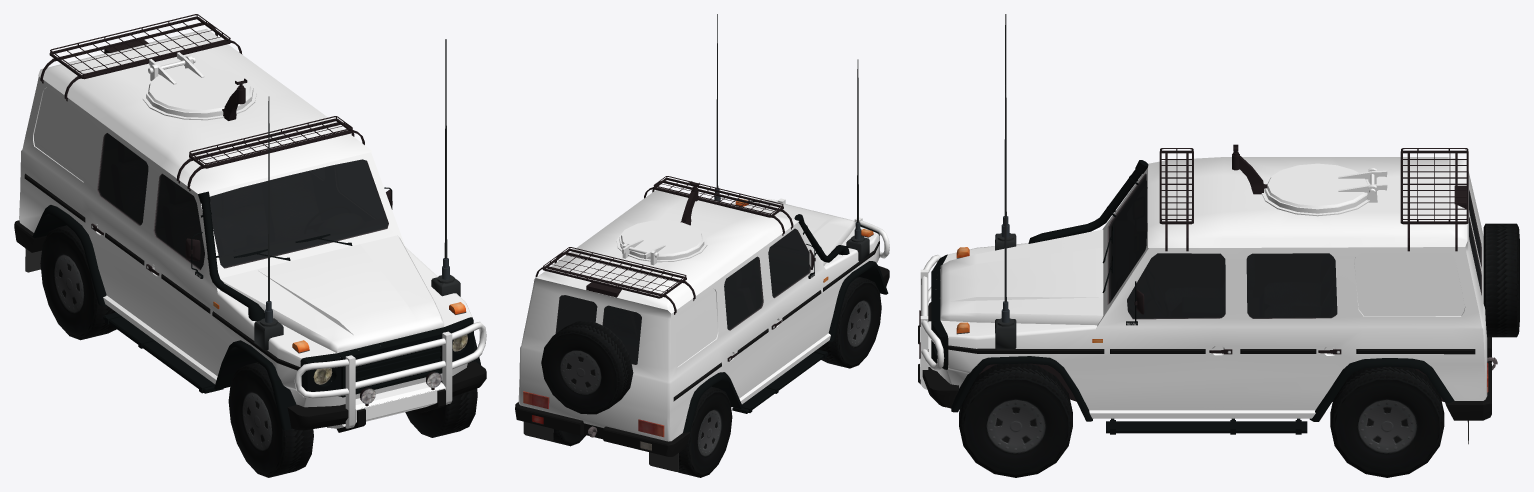
Rendered from Car_2.fbx.
3 renders of one model, left to right at view 1: azimuth 30°, elevation 25°; view 2: azimuth 150°, elevation 25°; view 3: azimuth 270°, elevation 25°, orthographic. The views are drawn at different scales.
Parts seen in each view (by area): view 1: Car_body, Glass, Wheel_front_right, Wheels_back_right, Radiator_grid, The_Kangaroo_River, Lining, Hatch_cover, Rear_Trunk, Front_Trunk, Bottom, Antennas (+7 smaller); view 2: Car_body, Wheel__spare_, Glass, Wheel_front_right, Wheels_back_right, Rear_Trunk, Rear_bumper, Hatch_cover, Lining, Front_Trunk, Step, Antennas (+5 smaller); view 3: Car_body, Glass, Wheel_front_left, Wheels_back_left, Wheel__spare_, Hatch_cover, Lining, Rear_Trunk, Step, Overhead_strap, Antennas, Front_Trunk (+6 smaller).
Boxes of the visible parts, x1=… form: Car_body: x1=19, y1=28, x2=471, y2=407; Glass: x1=98, y1=133, x2=388, y2=269; Wheel_front_right: x1=228, y1=362, x2=313, y2=477; Wheels_back_right: x1=40, y1=225, x2=116, y2=340; Radiator_grid: x1=300, y1=317, x2=473, y2=397; The_Kangaroo_River: x1=294, y1=321, x2=486, y2=428; Lining: x1=32, y1=205, x2=481, y2=430; Hatch_cover: x1=148, y1=52, x2=251, y2=112; Rear_Trunk: x1=40, y1=14, x2=242, y2=101; Front_Trunk: x1=176, y1=116, x2=364, y2=190; Bottom: x1=327, y1=382, x2=445, y2=432; Antennas: x1=254, y1=39, x2=460, y2=350; Car_body: x1=518, y1=187, x2=879, y2=441; Wheel__spare_: x1=541, y1=321, x2=633, y2=414; Glass: x1=555, y1=228, x2=810, y2=364; Wheel_front_right: x1=817, y1=276, x2=881, y2=368; Wheels_back_right: x1=677, y1=386, x2=732, y2=477; Rear_Trunk: x1=535, y1=247, x2=695, y2=314; Rear_bumper: x1=515, y1=402, x2=690, y2=456; Hatch_cover: x1=621, y1=220, x2=702, y2=259; Lining: x1=683, y1=261, x2=888, y2=432; Front_Trunk: x1=644, y1=176, x2=793, y2=235; Step: x1=732, y1=349, x2=827, y2=413; Antennas: x1=714, y1=14, x2=869, y2=261; Car_body: x1=936, y1=157, x2=1487, y2=418; Glass: x1=1108, y1=174, x2=1481, y2=318; Wheel_front_left: x1=959, y1=363, x2=1072, y2=477; Wheels_back_left: x1=1330, y1=366, x2=1444, y2=477; Wheel__spare_: x1=1483, y1=223, x2=1519, y2=337; Hatch_cover: x1=1267, y1=163, x2=1387, y2=208; Lining: x1=951, y1=356, x2=1454, y2=421; Rear_Trunk: x1=1400, y1=148, x2=1468, y2=251; Step: x1=1106, y1=418, x2=1307, y2=434; Overhead_strap: x1=947, y1=345, x2=1475, y2=354; Antennas: x1=995, y1=14, x2=1016, y2=349; Front_Trunk: x1=1159, y1=148, x2=1193, y2=251.
Bounding box in the file's own units: 2.08 × 3.78 × 5.31.
